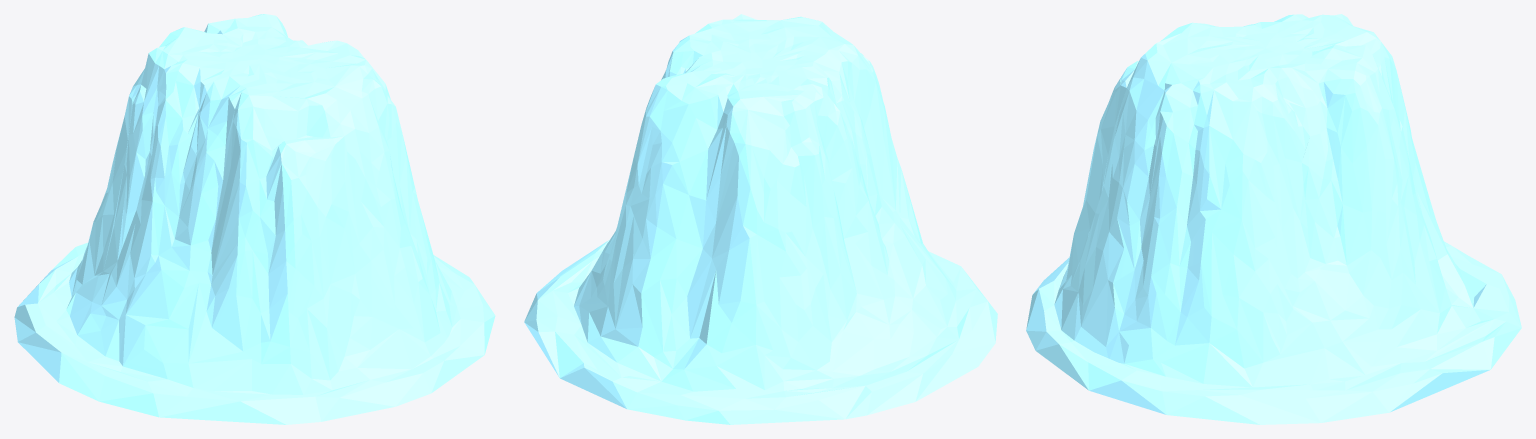
Rendered from Obstacle_2.glb.
The picture shows the model from 3 angles, left to right: view 1: azimuth 30°, elevation 25°; view 2: azimuth 150°, elevation 25°; view 3: azimuth 270°, elevation 25°; orthographic projection. The views are drawn at different scales.
Parts seen in each view (by area): view 1: Obstacle_2; view 2: Obstacle_2; view 3: Obstacle_2.
Part boxes in pixels (bbox=[...]): Obstacle_2: bbox=[14, 14, 495, 424]; Obstacle_2: bbox=[524, 14, 997, 424]; Obstacle_2: bbox=[1026, 14, 1521, 424].
Size of the model in its own units: 14.04 by 8.74 by 14.1.
